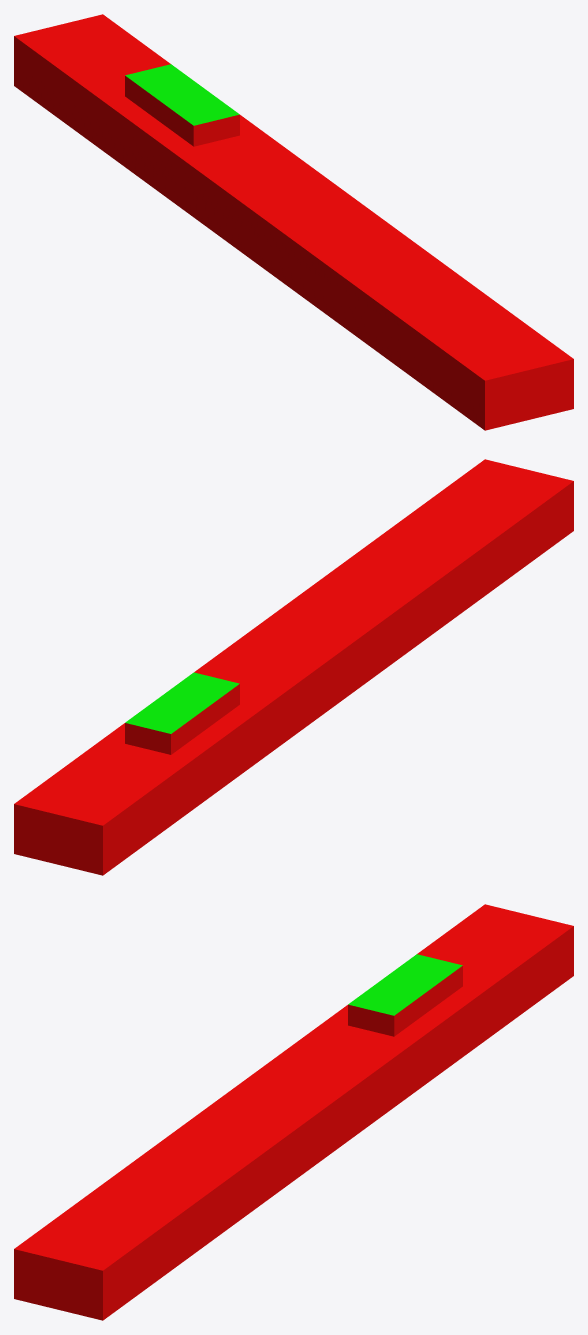
Rendered from labeled.obj.
The picture shows the model from 3 angles, top to bottom: view 1: azimuth 30°, elevation 25°; view 2: azimuth 150°, elevation 25°; view 3: azimuth 330°, elevation 25°; orthographic projection.
Size of the model in its own units: 0.0172 by 0.0131 by 0.1575.
